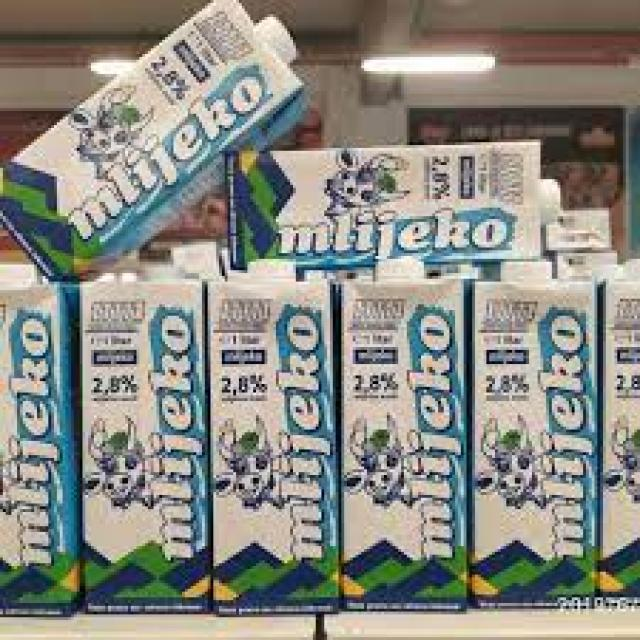cardboard: (0, 0, 310, 276), (75, 267, 216, 613), (337, 252, 467, 612), (468, 250, 596, 604), (218, 248, 340, 617), (220, 145, 564, 262), (0, 253, 82, 617), (600, 257, 640, 596)
